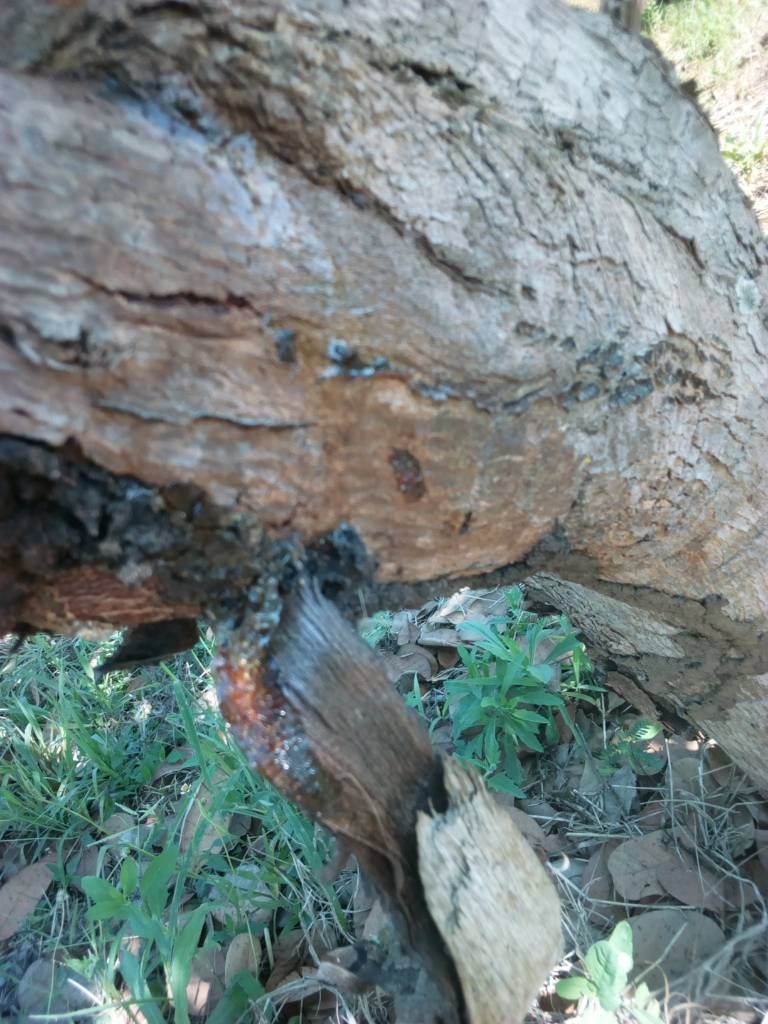Termites: (57, 199, 718, 561)
